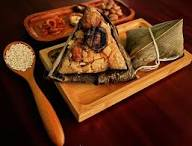zongzi: (52, 5, 134, 75), (126, 19, 183, 72)
